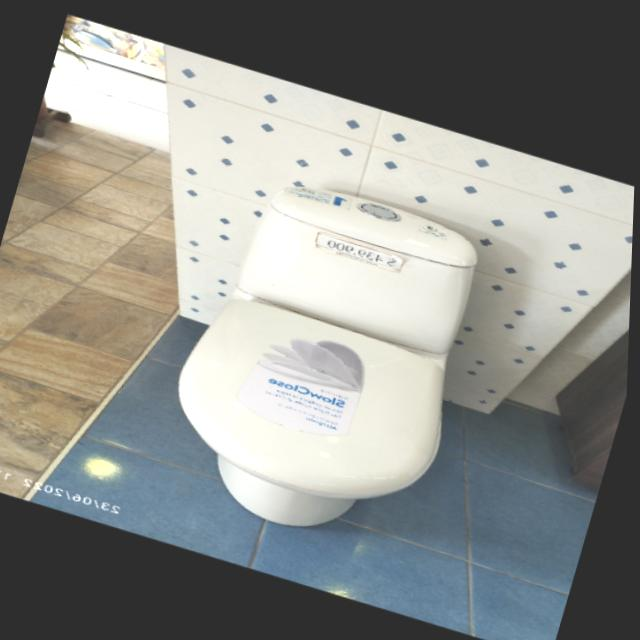toilet: (149, 153, 504, 561)
